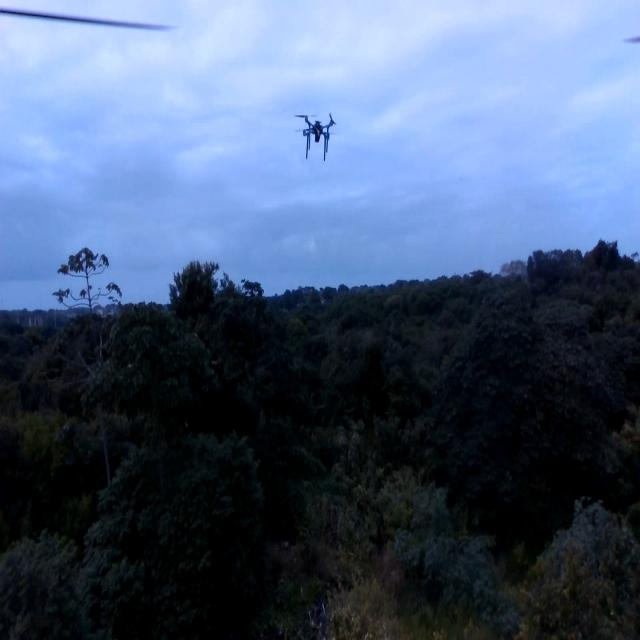-uav-: (290, 96, 342, 174)
